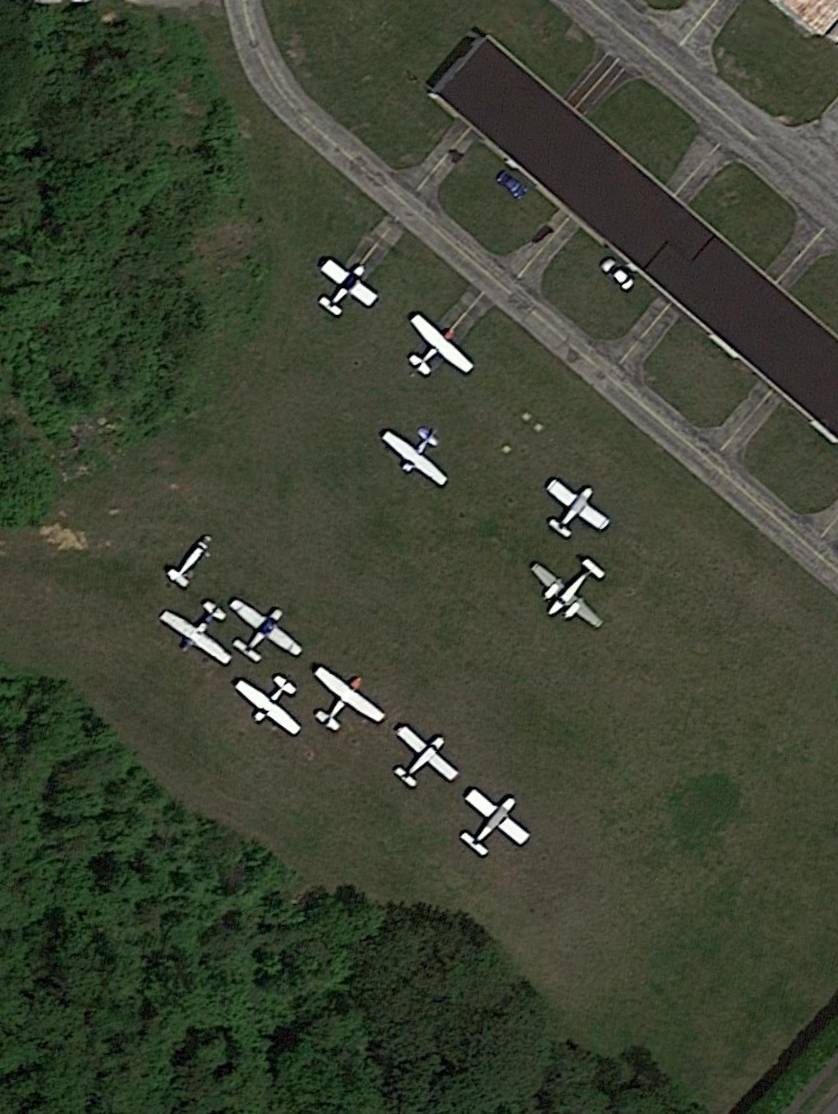plane: (512, 531, 632, 647), (208, 582, 319, 685), (291, 652, 398, 752), (441, 774, 545, 872), (150, 581, 251, 677), (373, 711, 472, 806), (388, 301, 486, 395), (375, 407, 470, 496), (528, 464, 624, 552), (226, 658, 322, 745), (301, 246, 391, 332)
small vehicle: (592, 249, 640, 297), (489, 165, 533, 205)
